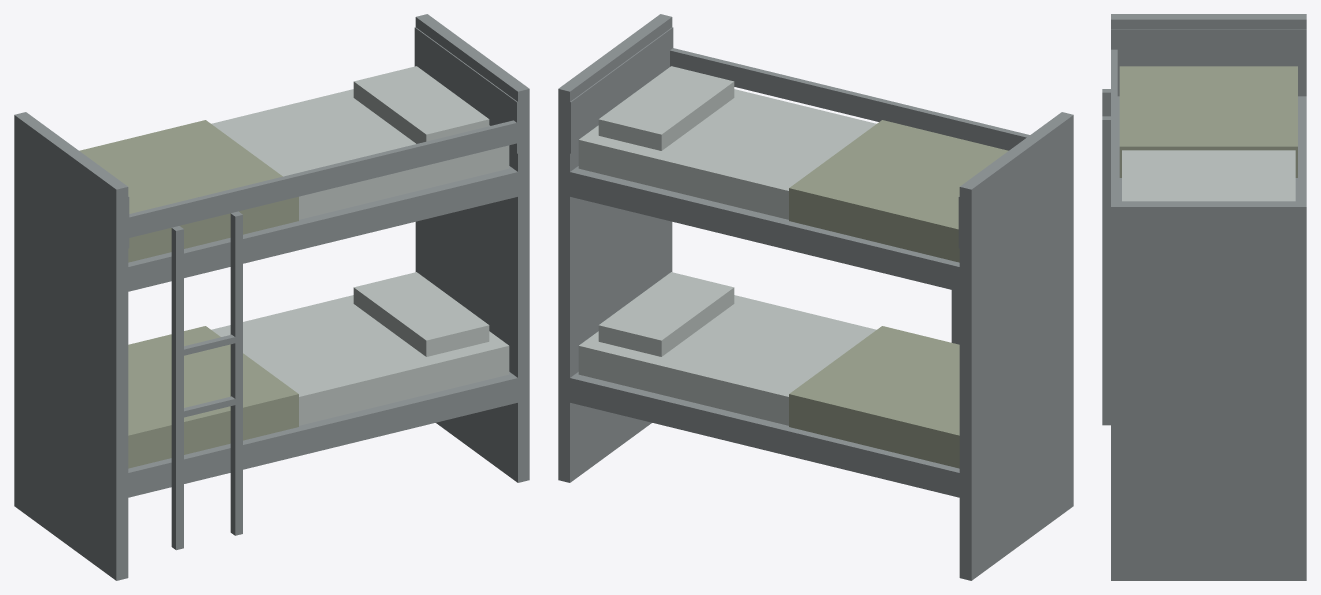
Rendered from furn_bunk_bed.fbx.
3 views of the same model, side by side, from view 1: azimuth 30°, elevation 25°; view 2: azimuth 150°, elevation 25°; view 3: azimuth 270°, elevation 25° (orthographic). The views are drawn at different scales.
Visible parts, largest first — view 1: furn_bunk_bed; view 2: furn_bunk_bed; view 3: furn_bunk_bed.
Boxes of the visible parts, x1,y1,x2,y2 form: furn_bunk_bed: (14, 14, 529, 580); furn_bunk_bed: (558, 14, 1073, 580); furn_bunk_bed: (1102, 14, 1306, 580).
Size of the model in its own units: 2.1 by 1.9 by 0.94.
